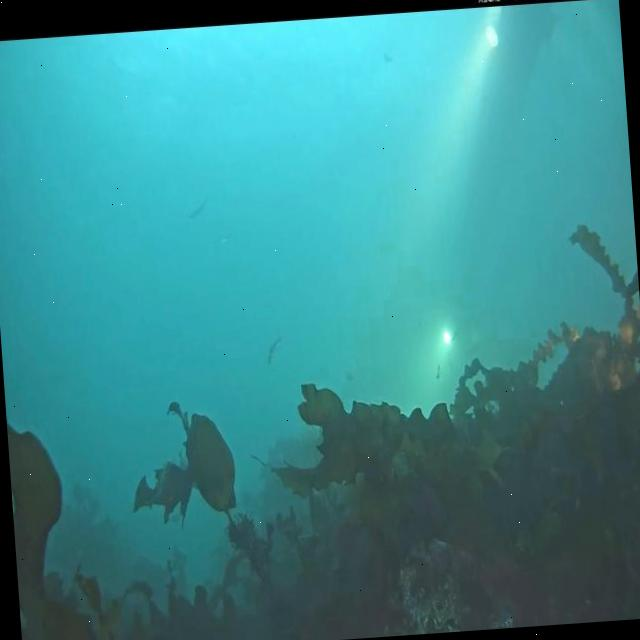fish: (264, 336, 284, 366), (188, 196, 208, 220), (212, 232, 232, 245)
